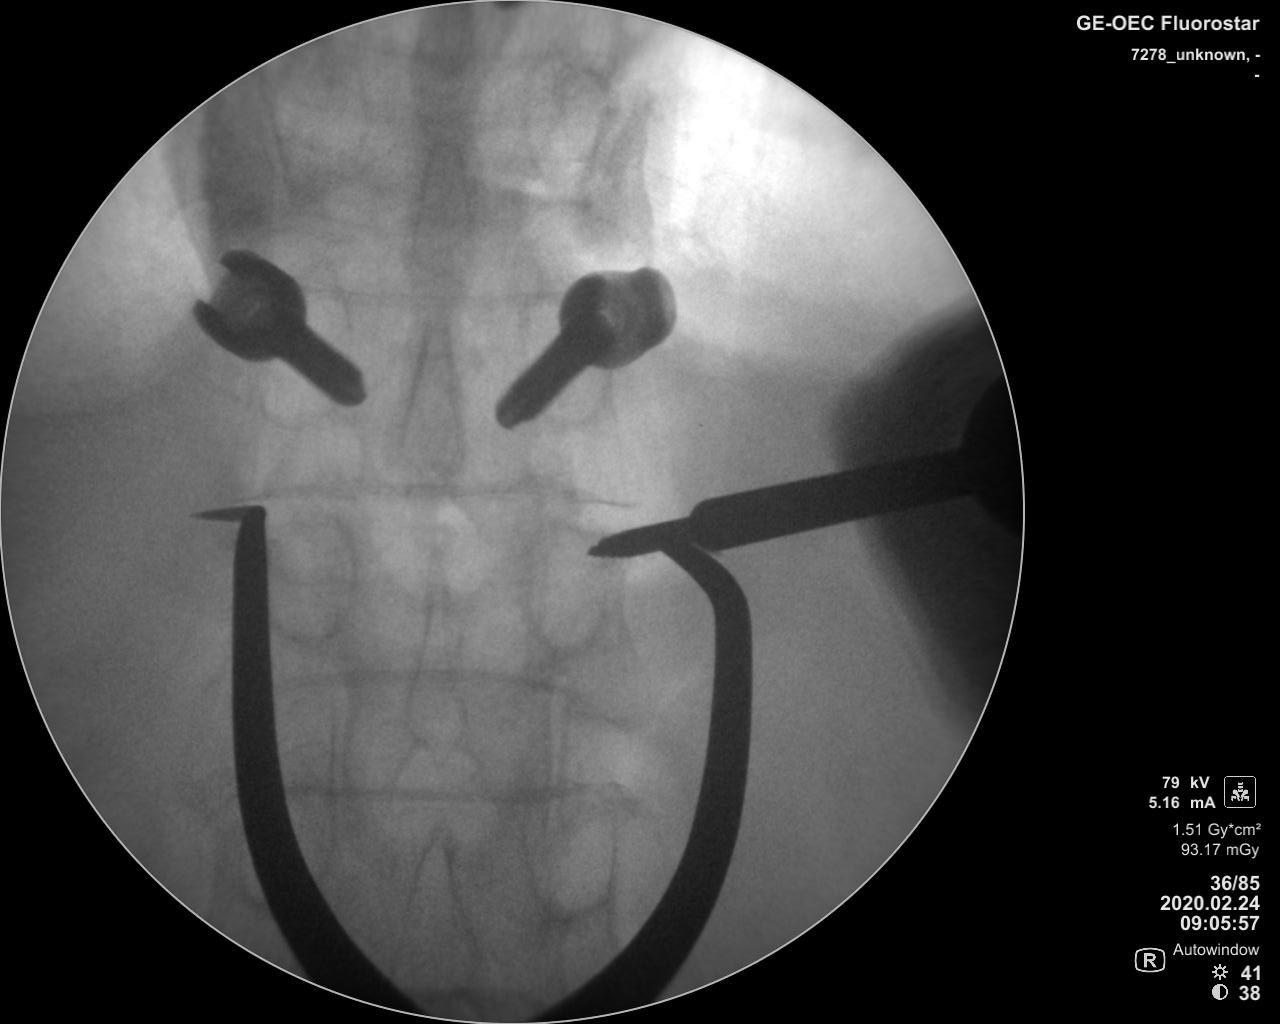eyes: (512, 294, 609, 432), (259, 285, 349, 429), (523, 790, 620, 916), (267, 512, 354, 647), (523, 525, 610, 656)
line: (272, 665, 633, 732), (236, 480, 647, 514), (283, 773, 620, 813), (301, 273, 560, 315)
nose: (400, 550, 471, 760), (395, 834, 482, 998), (403, 138, 479, 313), (394, 310, 468, 483), (412, 5, 481, 125)
